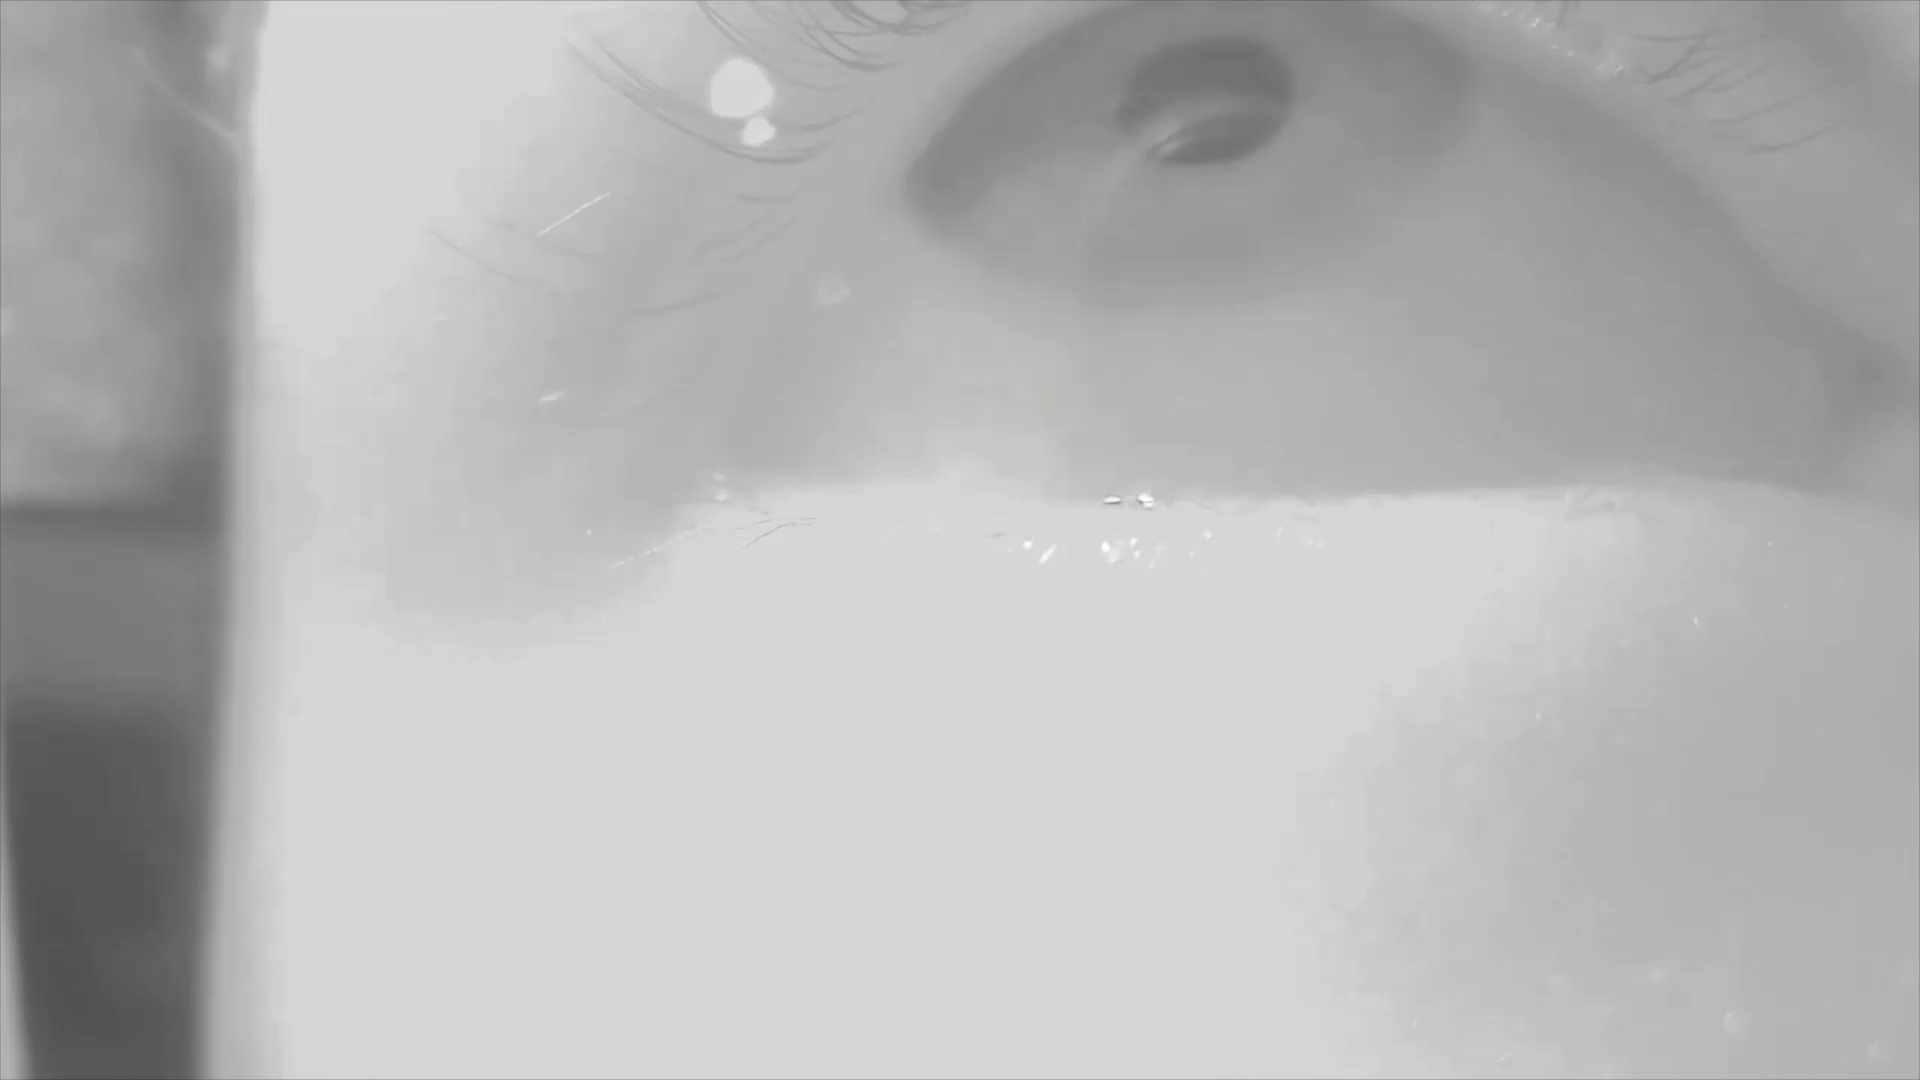pupil: (1116, 38, 1297, 170)
